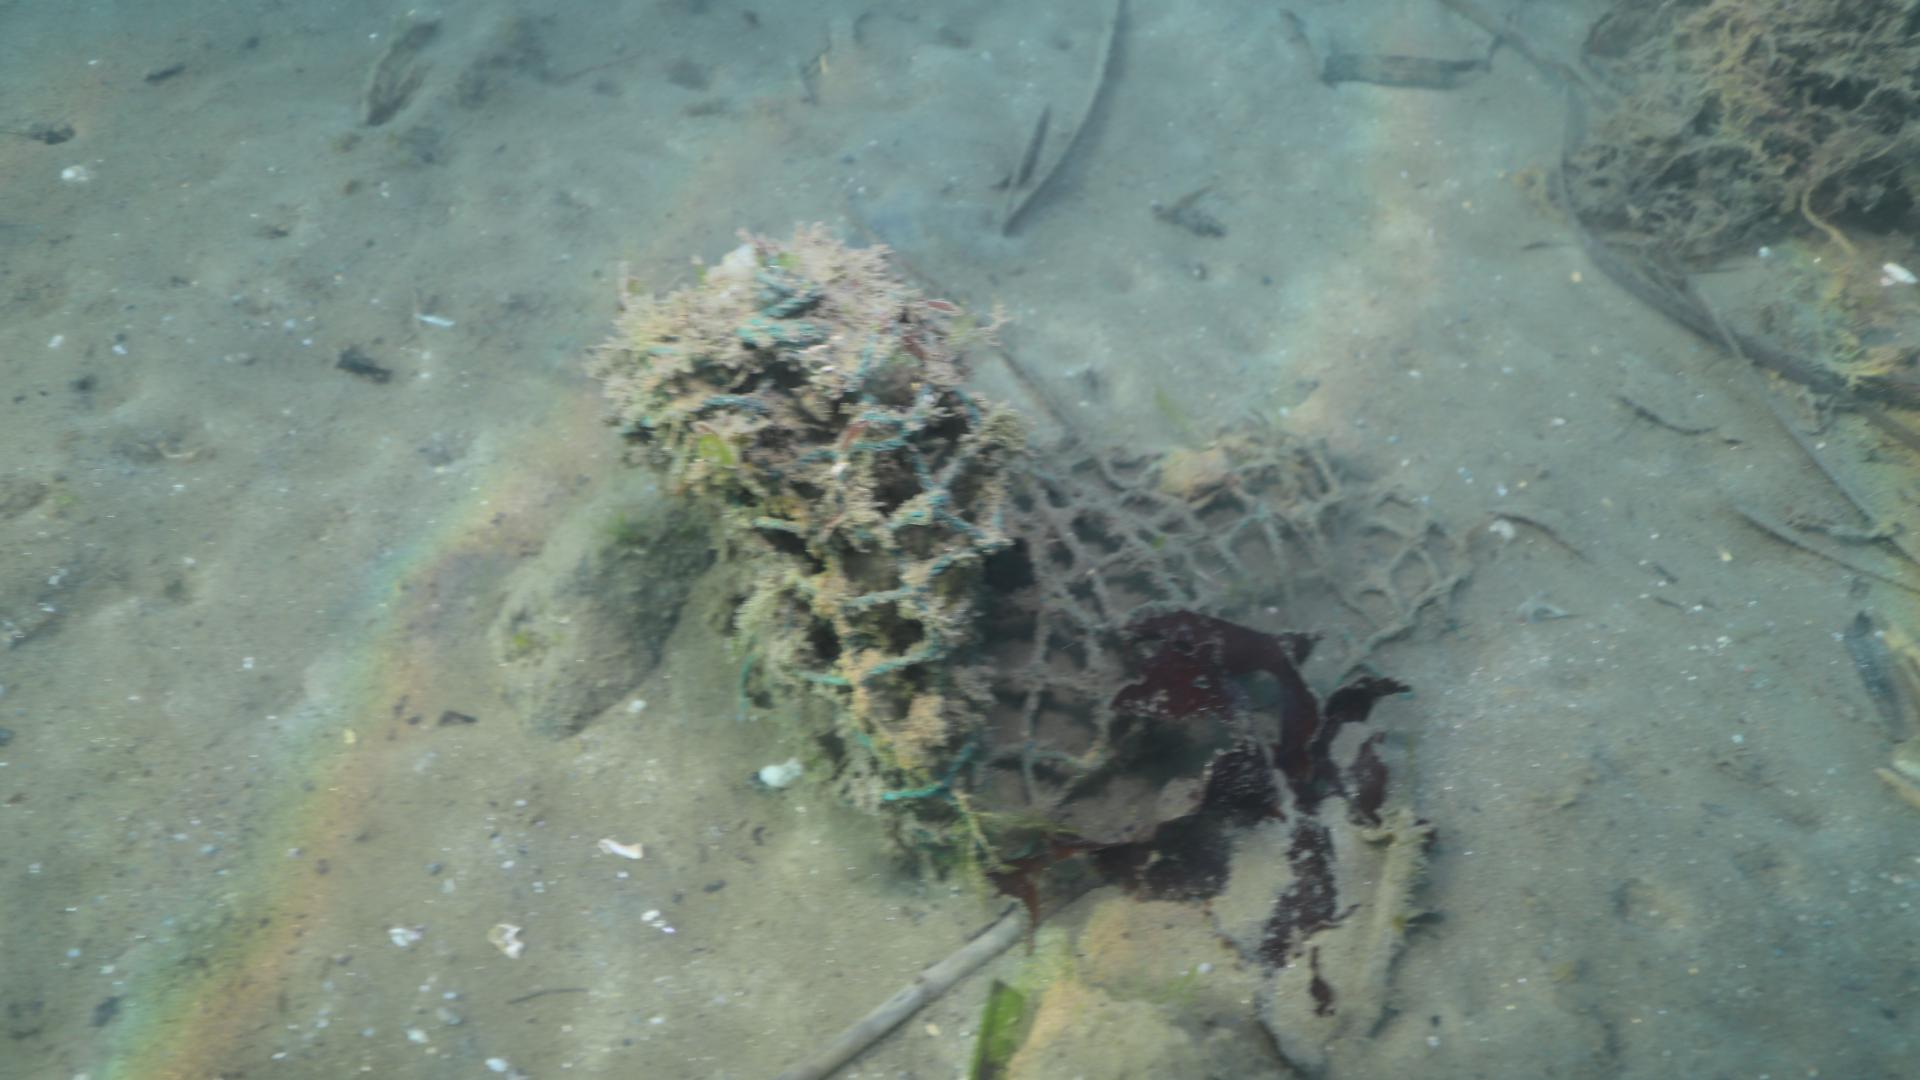fish net: (589, 229, 1476, 891)
